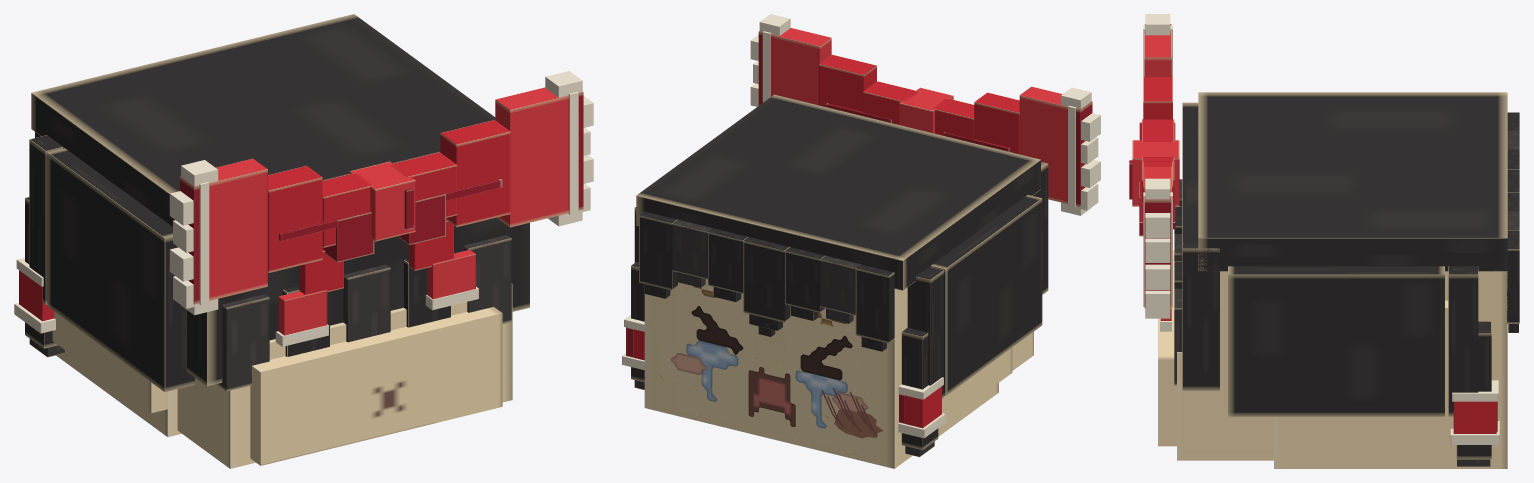
File: scratch_reimu_3.obj
The picture shows the model from 3 angles, left to right: view 1: azimuth 30°, elevation 25°; view 2: azimuth 150°, elevation 25°; view 3: azimuth 270°, elevation 25°; orthographic projection. The views are drawn at different scales.
Parts seen in each view (by area): view 1: scratch_reimu_3; view 2: scratch_reimu_3; view 3: scratch_reimu_3.
Part boxes in pixels (x1,y1,x2,y2): scratch_reimu_3: (14, 14, 593, 468); scratch_reimu_3: (622, 14, 1100, 468); scratch_reimu_3: (1129, 14, 1519, 468).
Bounding box in the file's own units: 16.28 × 12.24 × 14.49.
1 material, 1 textured.
